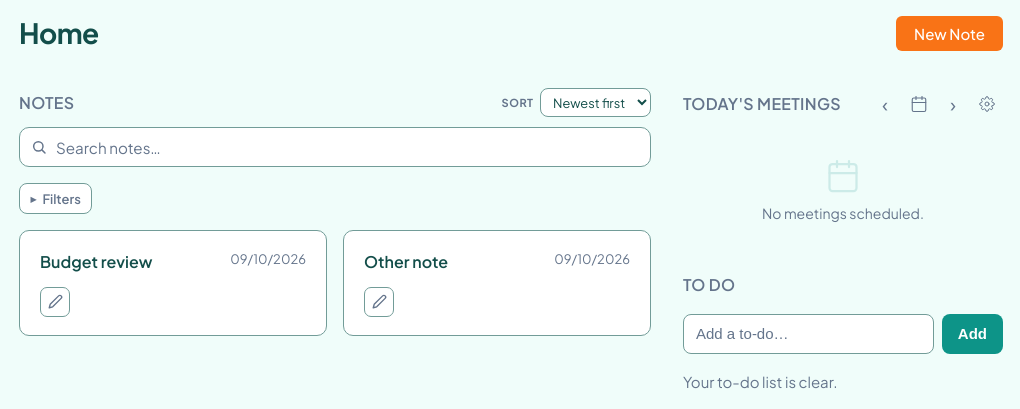
Scenario: ListView — non-urgent transitions (19-I3) › eventually filters the list to match the typed query
In the search field labelled "Search notes…": (335, 147) [19,127,651,167], type "budget"
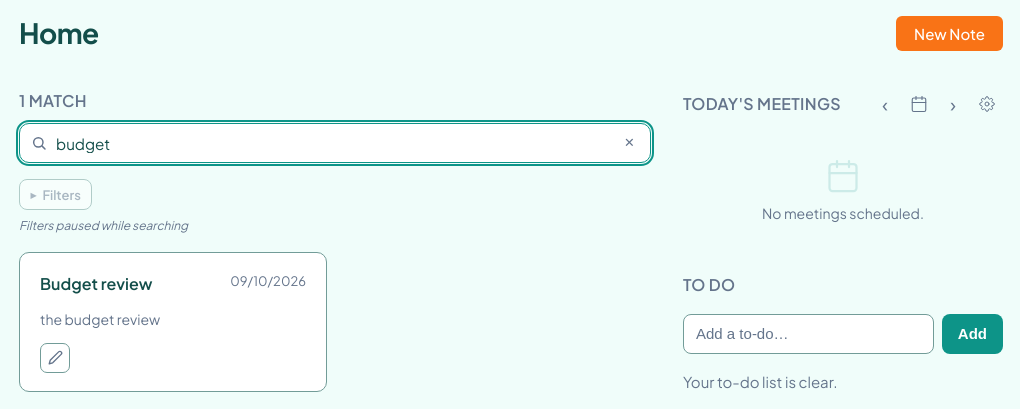
expect the heading "Budget review" is shown: met, box [40,272,152,294]
expect the heading "Other note" is gone: met
